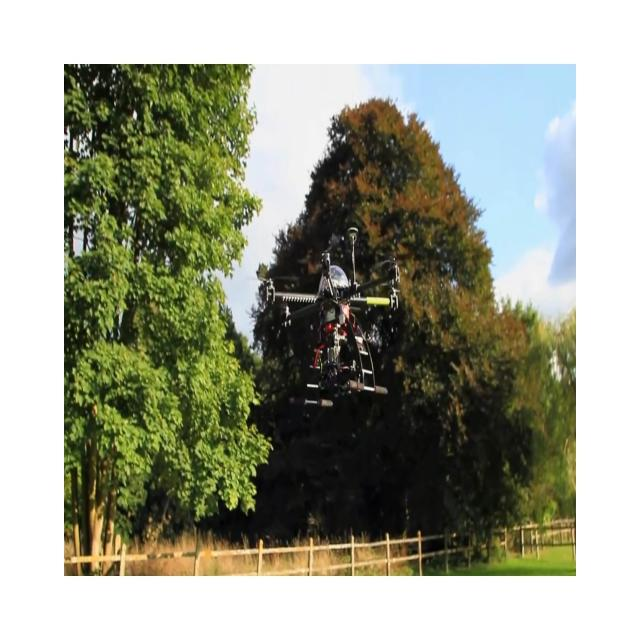drone: (256, 225, 401, 410)
